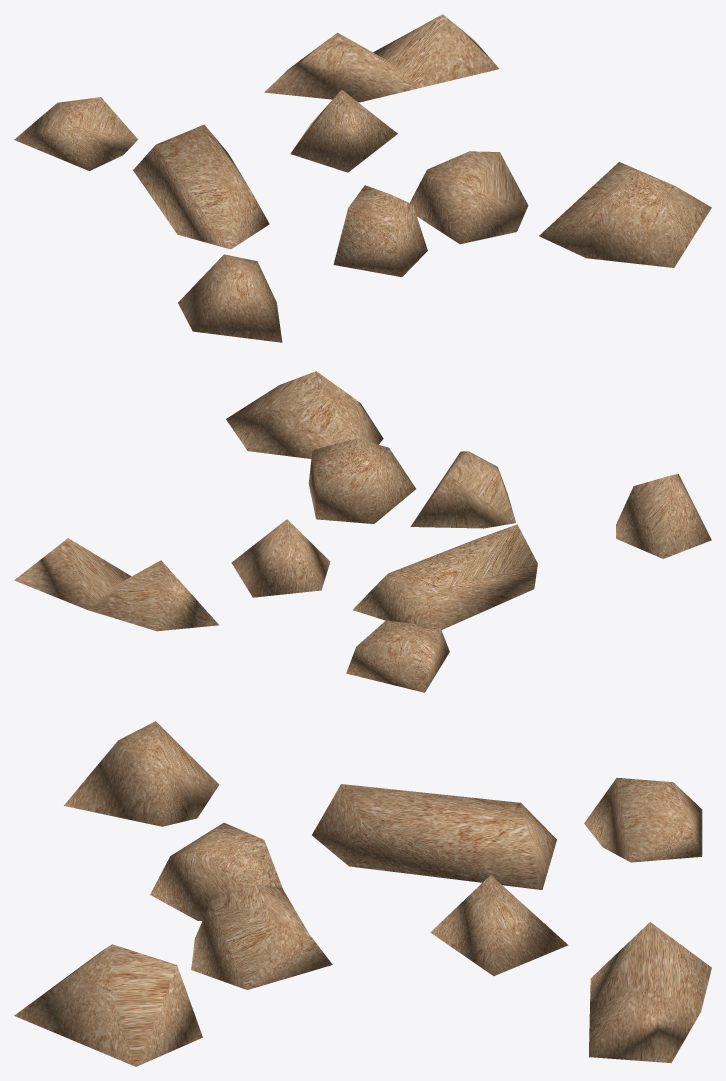
Rendered from rock_pebbleclump_a1_l2.fbx.
3 views of the same model, one above another, from view 1: azimuth 30°, elevation 25°; view 2: azimuth 150°, elevation 25°; view 3: azimuth 270°, elevation 25° (orthographic). The views are drawn at different scales.
Visible parts, largest first — view 1: mesh_node; view 2: mesh_node; view 3: mesh_node.
Boxes of the visible parts, x1,y1,x2,y2 form: mesh_node: [14, 14, 711, 342]; mesh_node: [14, 371, 711, 692]; mesh_node: [14, 721, 711, 1066].
Size of the model in its own units: 1.21 by 0.1439 by 1.22.
